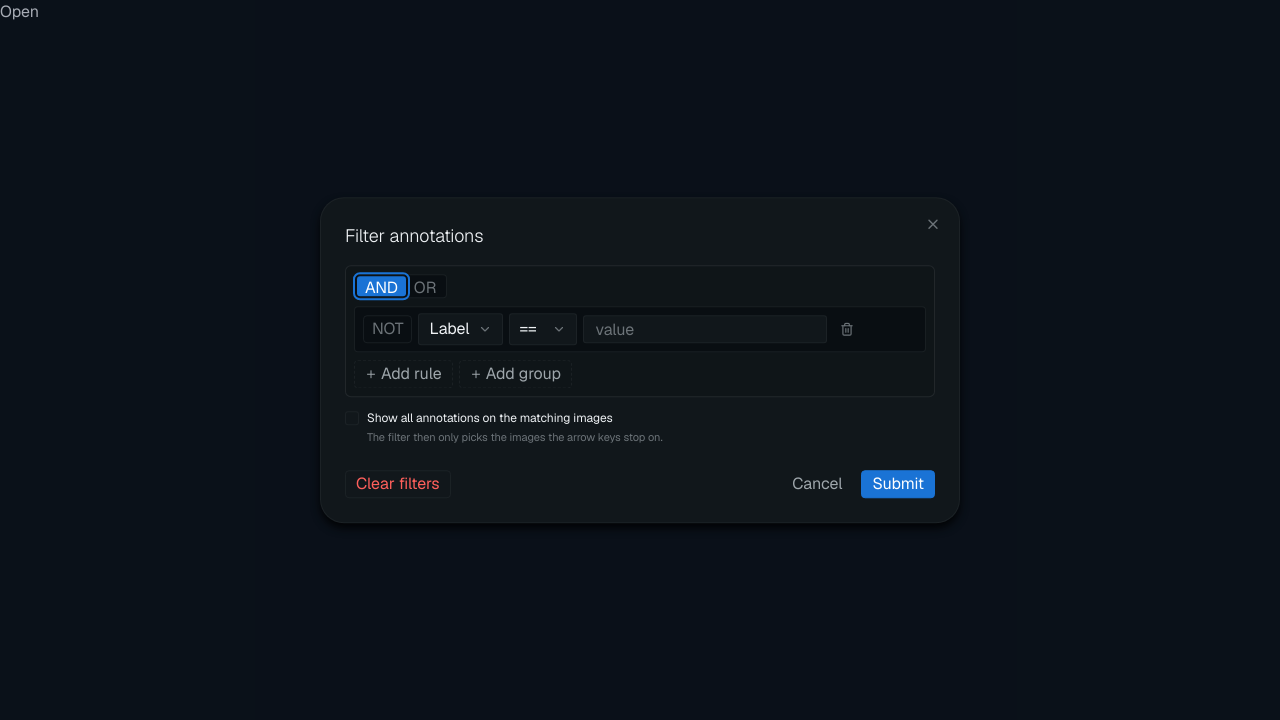
Test: FilterBuilderDialog — Add rule / Add group › '+ Add rule' appends another rule to the root group
Check: the number of elements with test id "filter-rule-row" is 1, box [354, 306, 926, 352]
What coordinates should you click on to do the following:
click the button with test id "filter-add-rule"
I would click on:
 (403, 374)
Its box is [354, 360, 453, 388].
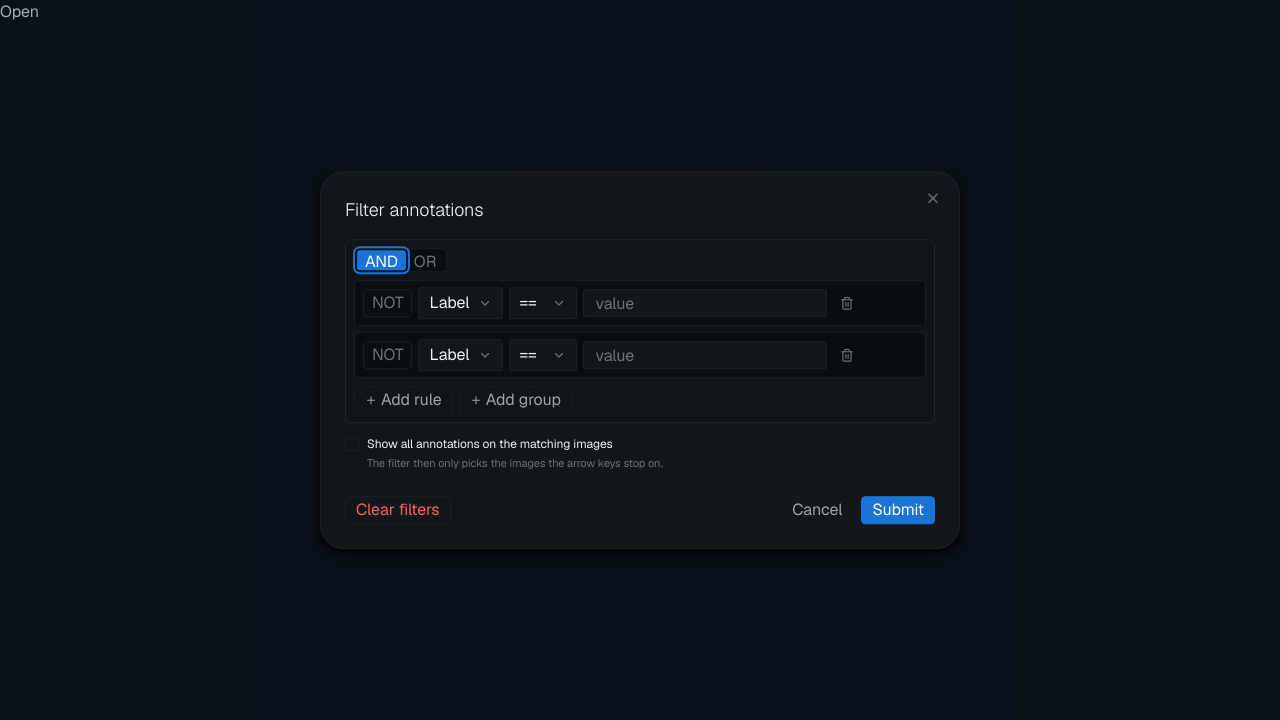
Check: the number of elements with test id "filter-rule-row" is 2, box [354, 280, 926, 326]; [354, 332, 926, 378]
